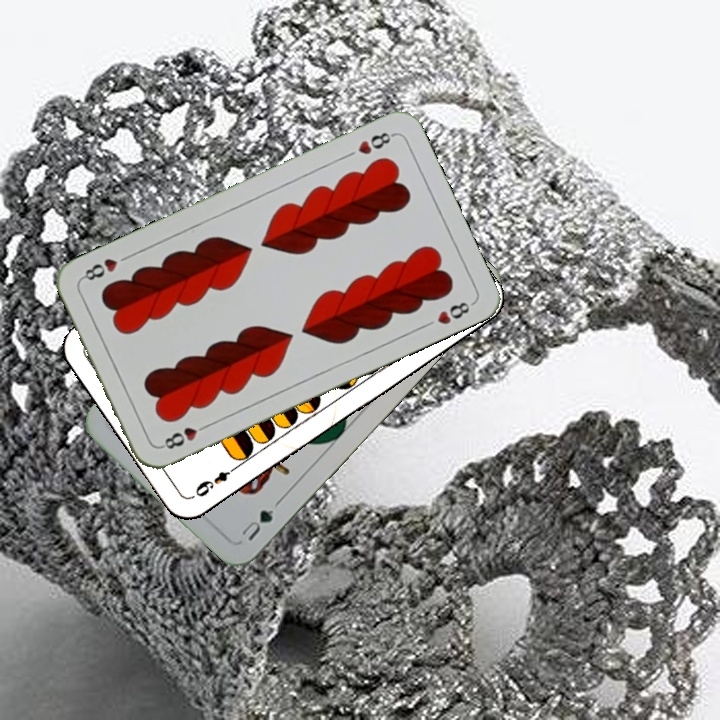E9: (191, 461, 241, 500)
GU: (237, 505, 277, 544)
H8: (157, 419, 212, 452), (353, 128, 397, 157)
